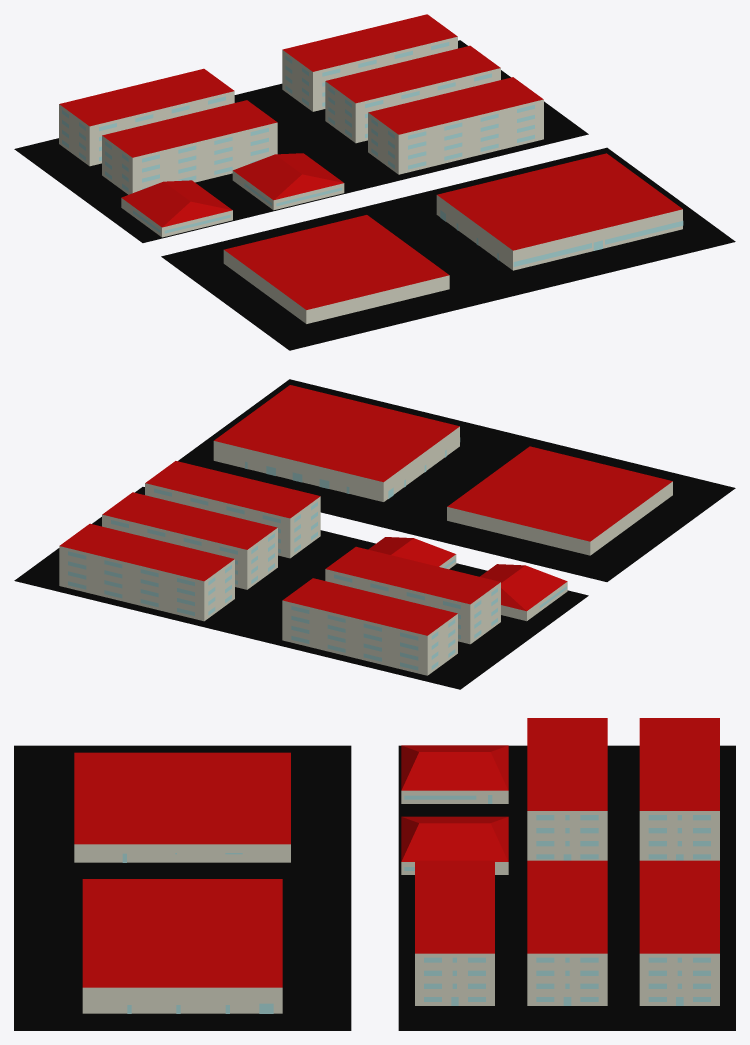
3 renders of one model, top to bottom at view 1: azimuth 30°, elevation 25°; view 2: azimuth 150°, elevation 25°; view 3: azimuth 270°, elevation 25°, orthographic. The views are drawn at different scales.
Visible parts, largest first — view 1: Roofs, Ground, Walls, Windows; view 2: Roofs, Ground, Walls, Windows; view 3: Roofs, Ground, Walls, Windows.
Part boxes in pixels (x1,y1,x2,y2): Roofs: [59, 14, 682, 309]; Ground: [14, 40, 735, 350]; Walls: [59, 36, 682, 323]; Windows: [62, 42, 683, 266]; Roofs: [59, 385, 672, 635]; Ground: [14, 379, 735, 689]; Walls: [59, 426, 672, 675]; Windows: [68, 437, 566, 670]; Roofs: [74, 718, 719, 987]; Ground: [14, 745, 735, 1030]; Walls: [74, 790, 719, 1013]; Windows: [122, 795, 710, 1013].
Bounding box in the file's own units: 142 × 12.19 × 152.
